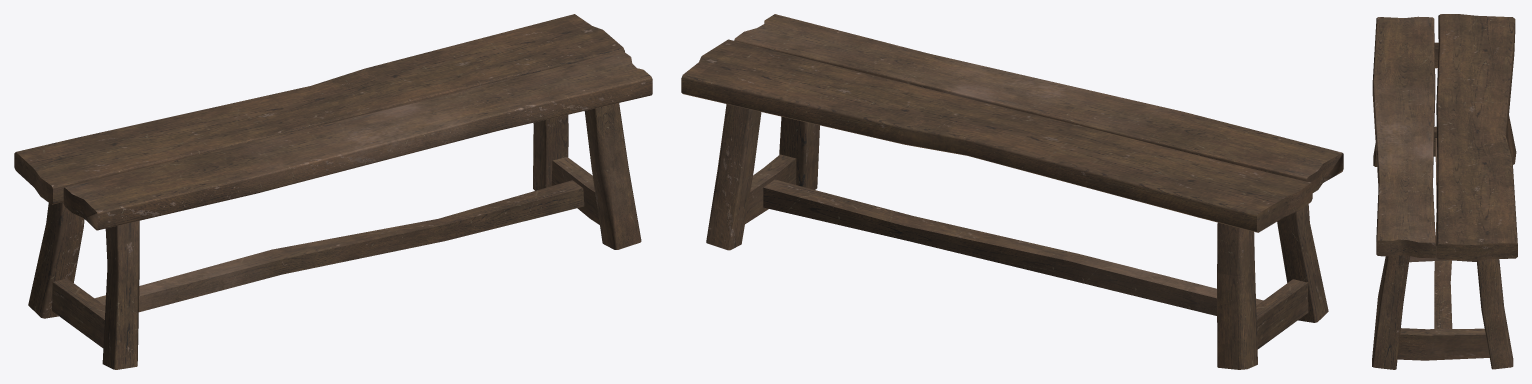
The model's file is SM_Bench_01.fbx.
3 renders of one model, left to right at view 1: azimuth 30°, elevation 25°; view 2: azimuth 150°, elevation 25°; view 3: azimuth 270°, elevation 25°, orthographic. The views are drawn at different scales.
Parts seen in each view (by area): view 1: SM_Bench_01_LOD0; view 2: SM_Bench_01_LOD0; view 3: SM_Bench_01_LOD0.
Part boxes in pixels (bbox=[...]): SM_Bench_01_LOD0: bbox=[14, 14, 652, 369]; SM_Bench_01_LOD0: bbox=[681, 14, 1343, 369]; SM_Bench_01_LOD0: bbox=[1372, 14, 1517, 369].
Size of what is drawn, in the model's own units: 147 by 40.53 by 39.32.
